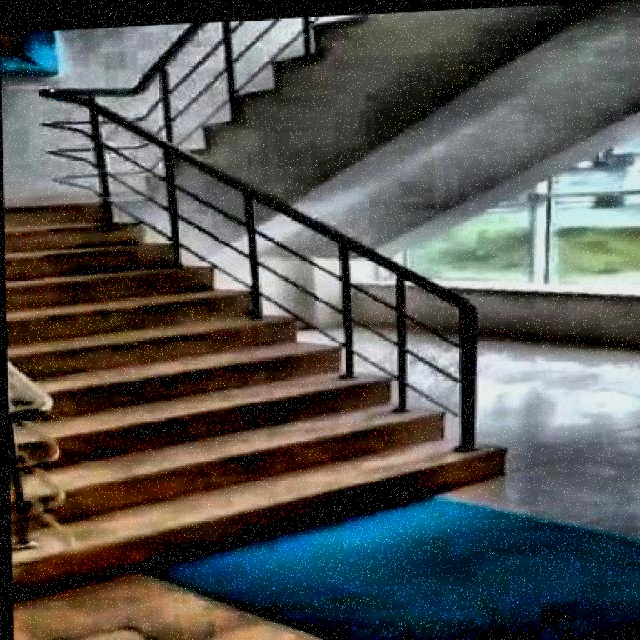stair: (5, 154, 515, 557)
